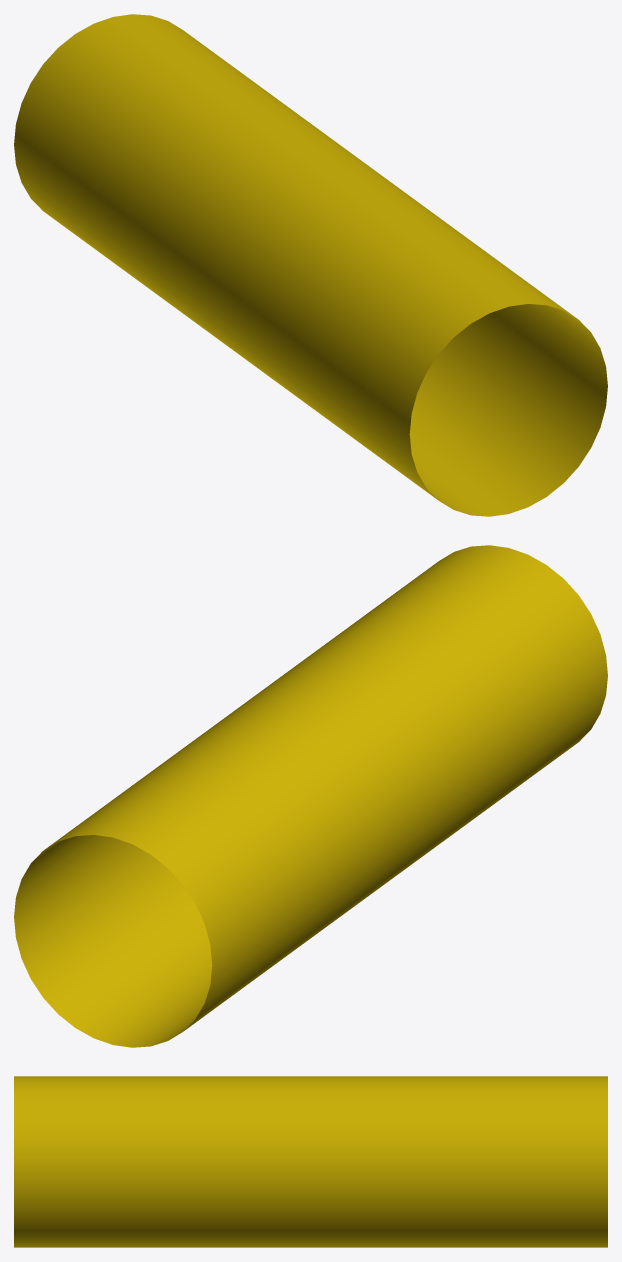
Rendered from sub_NonPipe.fbx.
3 views of the same model, one above another, from view 1: azimuth 30°, elevation 25°; view 2: azimuth 150°, elevation 25°; view 3: azimuth 270°, elevation 25° (orthographic). The views are drawn at different scales.
Visible parts, largest first — view 1: sub_1Pipe; view 2: sub_1Pipe; view 3: sub_1Pipe.
Part boxes in pixels (<box>): sub_1Pipe: <box>14,14,607,516</box>; sub_1Pipe: <box>14,545,607,1047</box>; sub_1Pipe: <box>14,1076,607,1247</box>.
Size of the model in its own units: 42.58 by 42.58 by 147.
